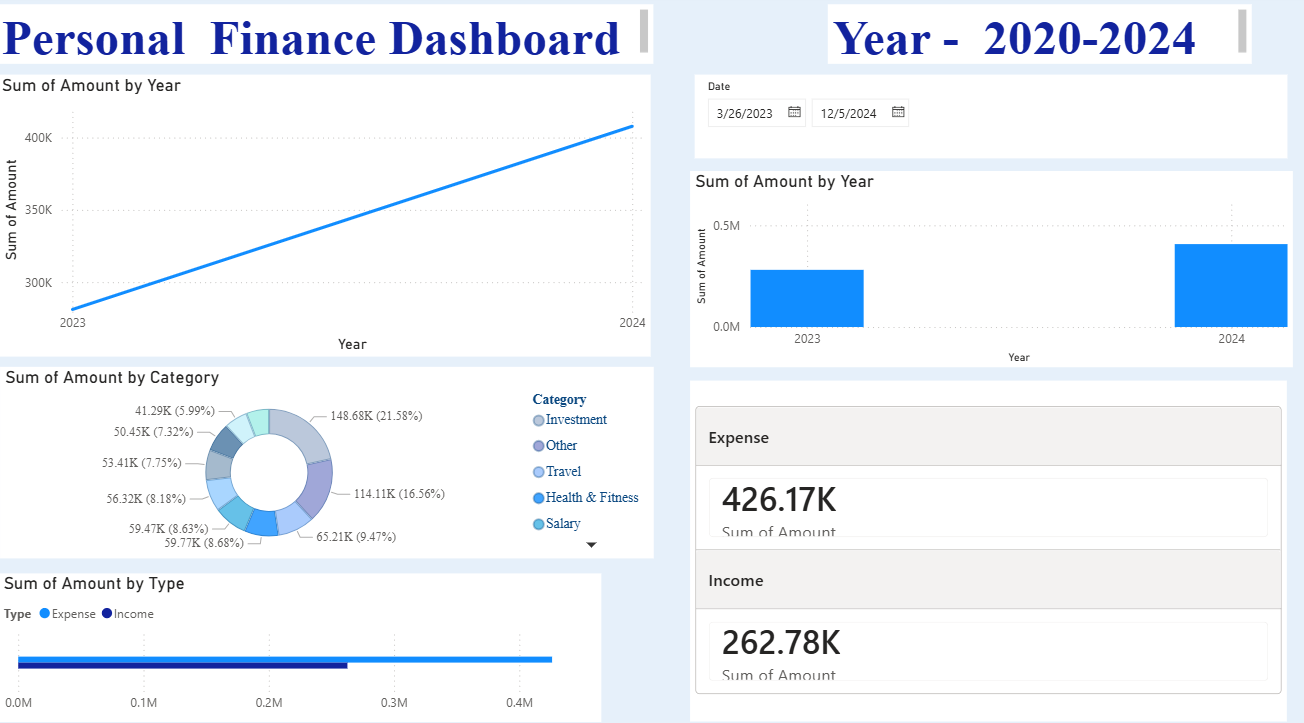

Layout of this report page (visuals, bound fields, positions):
{"tool":"powerbi","page":{"name":"Page 1","canvas":[1280,720],"ordinal":0},"visuals":[{"type":"textbox","box":[19.4,11.9,633.1,58.2],"z":0},{"type":"textbox","box":[782.4,11.9,441.9,47.8],"z":1000},{"type":"donutChart","fields":{"Category":["Personal_Finance_Dataset.Category"],"Y":["Sum(Personal_Finance_Dataset.Amount)"]},"box":[19.4,365.8,621.1,186.6],"z":2000},{"type":"lineChart","fields":{"Category":["Personal_Finance_Dataset.Date.Variation.Date Hierarchy.Year","Personal_Finance_Dataset.Date.Variation.Date Hierarchy.Quarter","Personal_Finance_Dataset.Date.Variation.Date Hierarchy.Month","Personal_Finance_Dataset.Date.Variation.Date Hierarchy.Day"],"Y":["Sum(Personal_Finance_Dataset.Amount)"]},"box":[19.4,80.6,618.1,274.7],"z":3000},{"type":"slicer","fields":{"Values":["Personal_Finance_Dataset.Date"]},"box":[680.8,70.2,577.8,104.5],"z":4006},{"type":"clusteredBarChart","fields":{"Y":["Sum(Personal_Finance_Dataset.Amount)"],"Series":["Personal_Finance_Dataset.Type"]},"box":[19.4,567.4,570.3,144.8],"z":4008},{"type":"clusteredColumnChart","fields":{"Category":["Personal_Finance_Dataset.Date.Variation.Date Hierarchy.Year"],"Y":["Sum(Personal_Finance_Dataset.Amount)"]},"box":[676.4,186.6,588.3,177.7],"z":4010},{"type":"cardVisual","fields":{"Rows":["Personal_Finance_Dataset.Type"],"Data":["Sum(Personal_Finance_Dataset.Amount)"]},"box":[676.4,379.2,582.3,333],"z":4011}]}

Visuals, with their boxes in screenshot pixels (x1, y1, x2, y2), scaled from the page's 1280x720 canvas onto the 1304x723 screenshot:
textbox: [left=20, top=12, right=665, bottom=70]
textbox: [left=797, top=12, right=1247, bottom=60]
donutChart - Personal_Finance_Dataset.Category x Sum(Personal_Finance_Dataset.Amount): [left=20, top=367, right=653, bottom=555]
lineChart - Personal_Finance_Dataset.Date.Variation.Date Hierarchy.Year x Personal_Finance_Dataset.Date.Variation.Date Hierarchy.Quarter: [left=20, top=81, right=649, bottom=357]
slicer - Personal_Finance_Dataset.Date: [left=694, top=70, right=1282, bottom=175]
clusteredBarChart - Sum(Personal_Finance_Dataset.Amount) x Personal_Finance_Dataset.Type: [left=20, top=570, right=601, bottom=715]
clusteredColumnChart - Personal_Finance_Dataset.Date.Variation.Date Hierarchy.Year x Sum(Personal_Finance_Dataset.Amount): [left=689, top=187, right=1288, bottom=366]
cardVisual - Personal_Finance_Dataset.Type x Sum(Personal_Finance_Dataset.Amount): [left=689, top=381, right=1282, bottom=715]
